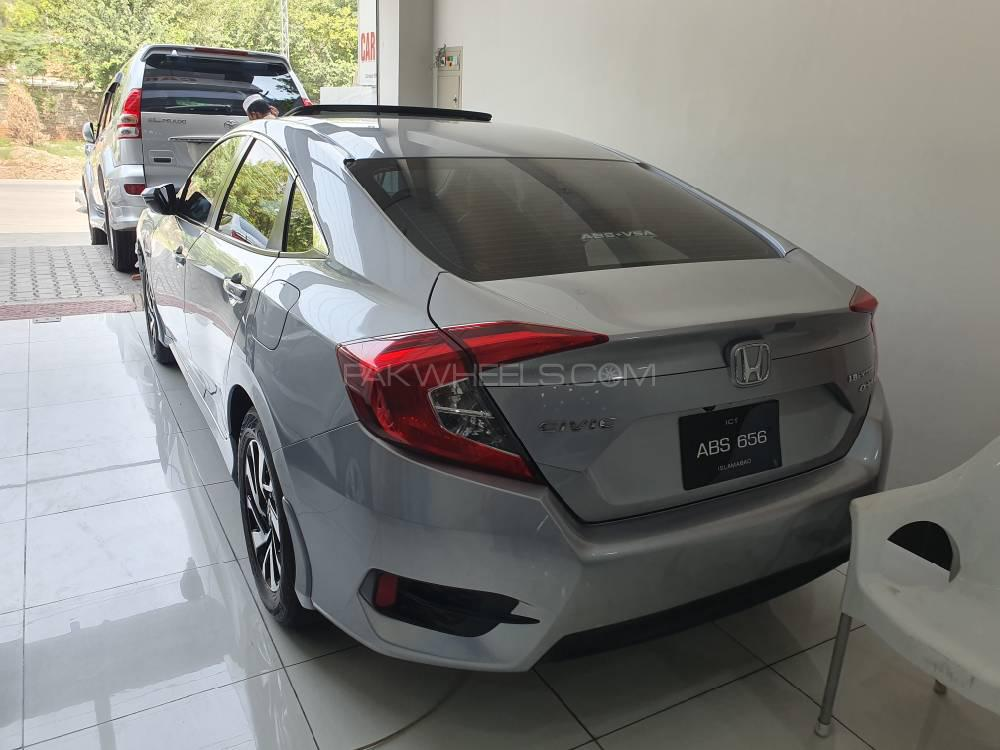license plate: (682, 421, 779, 466)
